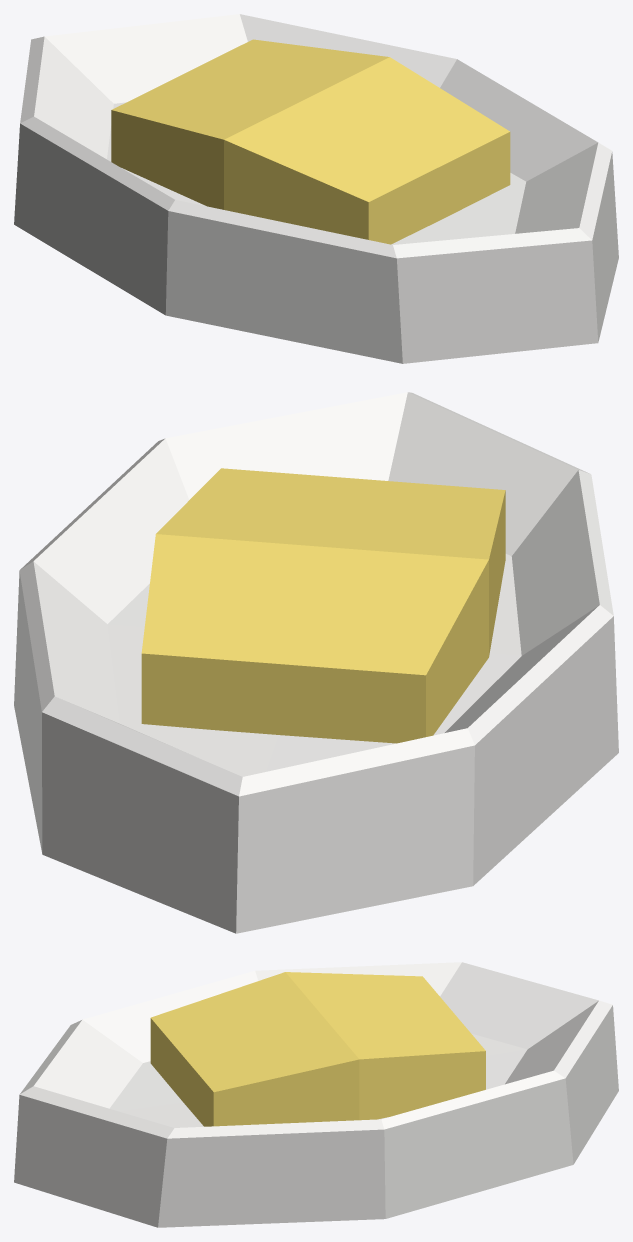
Rendered from Sponge1.fbx.
The picture shows the model from 3 angles, top to bottom: view 1: azimuth 30°, elevation 25°; view 2: azimuth 150°, elevation 25°; view 3: azimuth 270°, elevation 25°; orthographic projection. The views are drawn at different scales.
Visible parts, largest first — view 1: Sponge1; view 2: Sponge1; view 3: Sponge1.
Part boxes in pixels (x1,y1,x2,y2): Sponge1: (14, 14, 618, 363); Sponge1: (14, 392, 618, 933); Sponge1: (14, 962, 618, 1227).
Size of the model in its own units: 15.3 by 22.28 by 4.95.
